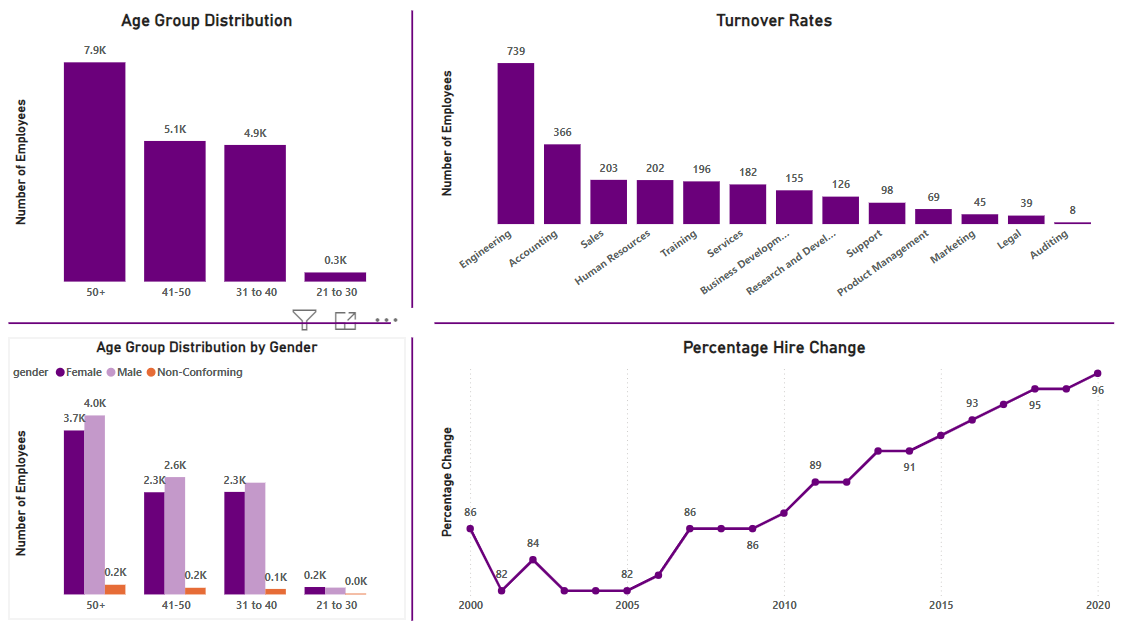

Layout of this report page (visuals, bound fields, positions):
{"tool":"powerbi","page":{"name":"Page 2","canvas":[1280,720],"ordinal":1},"visuals":[{"type":"clusteredColumnChart","title":"Age Group Distribution","fields":{"Y":["Sum(age group distribution.Column2)"],"Category":["age group distribution.Column1"]},"box":[16,16,448,336],"z":0},{"type":"clusteredColumnChart","title":"Age Group Distribution by Gender","fields":{"Category":["age group distribution by gender.age_group"],"Y":["Sum(age group distribution by gender.count)"],"Series":["age group distribution by gender.gender"]},"box":[16,384,448,320],"z":1},{"type":"columnChart","title":"Turnover Rates","fields":{"Category":["turnover rate.Column1"],"Y":["Sum(turnover rate.Column3)"]},"box":[496,16,768,336],"z":2},{"type":"lineChart","title":"Percentage Hire Change","fields":{"Category":["percentage hire change.Column1"],"Y":["Sum(percentage hire change.Column5)"]},"box":[496,384,768,320],"z":3},{"type":"shape","box":[448,16,48,336],"z":4},{"type":"shape","box":[448,384,48,320],"z":5},{"type":"shape","box":[496,352,768,32],"z":6},{"type":"shape","box":[16,352,432,32],"z":7}]}

Visuals, with their boxes in screenshot pixels (x1, y1, x2, y2), scaled from the page's 1280x720 canvas onto the 1125x631 screenshot:
"Age Group Distribution" clusteredColumnChart: [14, 14, 408, 308]
"Age Group Distribution by Gender" clusteredColumnChart: [14, 337, 408, 617]
"Turnover Rates" columnChart: [436, 14, 1111, 308]
"Percentage Hire Change" lineChart: [436, 337, 1111, 617]
shape: [394, 14, 436, 308]
shape: [394, 337, 436, 617]
shape: [436, 308, 1111, 337]
shape: [14, 308, 394, 337]
